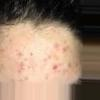Acne: (1, 33, 78, 74)
